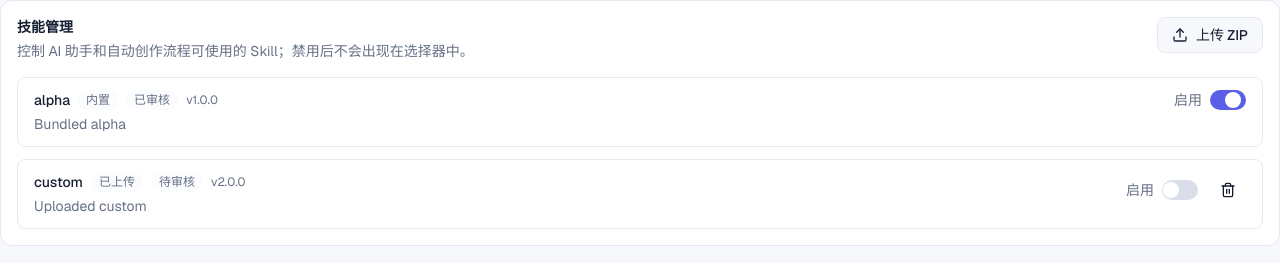
Scenario: SkillsSection › shows source labels, switches, and only offers deletion for uploaded Skills
expect the heading "alpha" is shown: met, box top-left (34, 90), bottom-right (70, 110)
expect the text "内置" is shown: met, box top-left (78, 90), bottom-right (118, 110)
Click the switch named "启用 custom" at (1180, 190), box top-left (1162, 180), bottom-right (1198, 200)
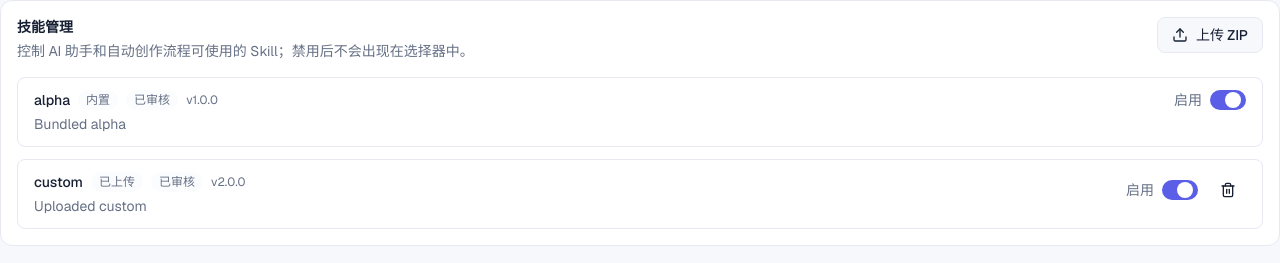
expect the text "已审核" in the row of "2.0.0" is shown: met, box top-left (159, 174), bottom-right (195, 190)
